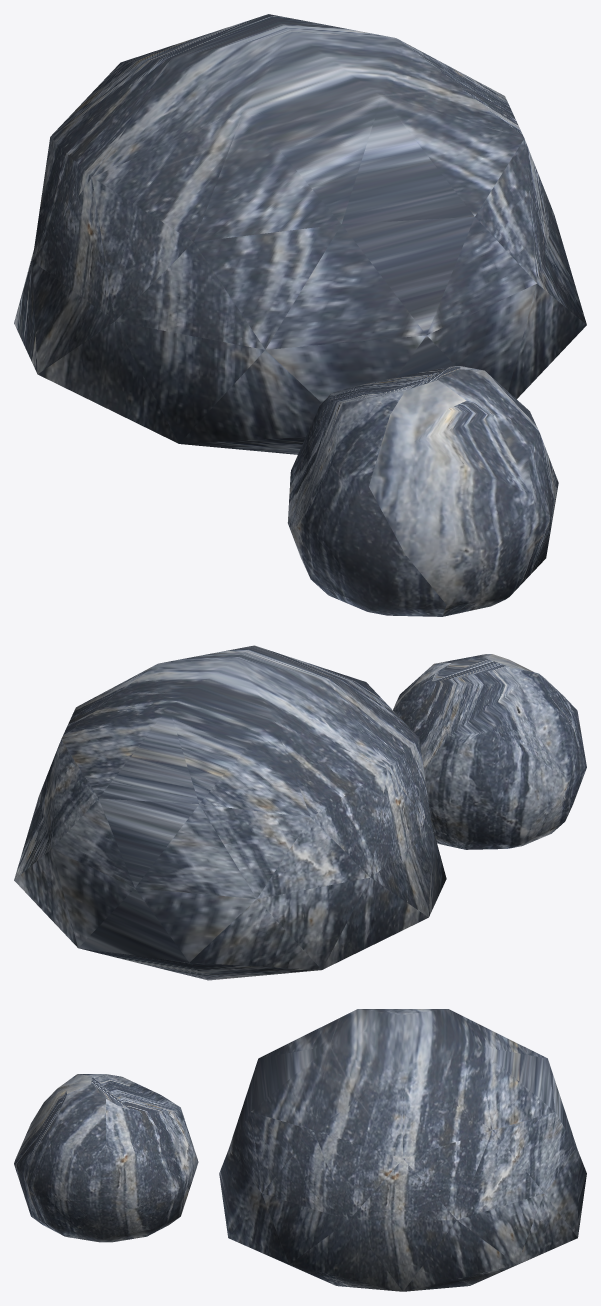
The model's file is Caillou 2.fbx.
3 views of the same model, one above another, from view 1: azimuth 30°, elevation 25°; view 2: azimuth 150°, elevation 25°; view 3: azimuth 270°, elevation 25° (orthographic). The views are drawn at different scales.
Parts seen in each view (by area): view 1: Caillou 2; view 2: Caillou 2; view 3: Caillou 2.
Part boxes in pixels (x1,y1,x2,y2): Caillou 2: (14,14,586,616); Caillou 2: (14,645,586,980); Caillou 2: (14,1009,586,1291).
Bounding box in the file's own units: 12.22 × 9.31 × 18.56.
